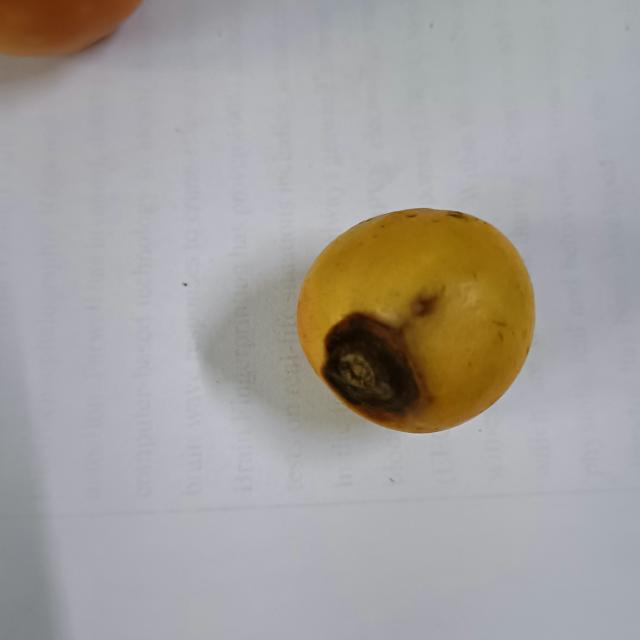Anthrocnose: (322, 312, 424, 422)
